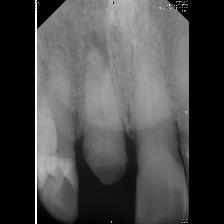apical_lesion: (72, 12, 130, 187)
